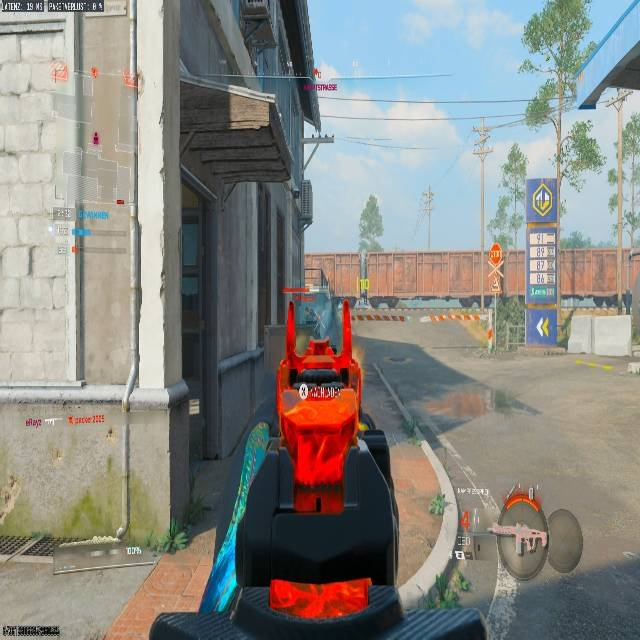player: (360, 288, 368, 304)
